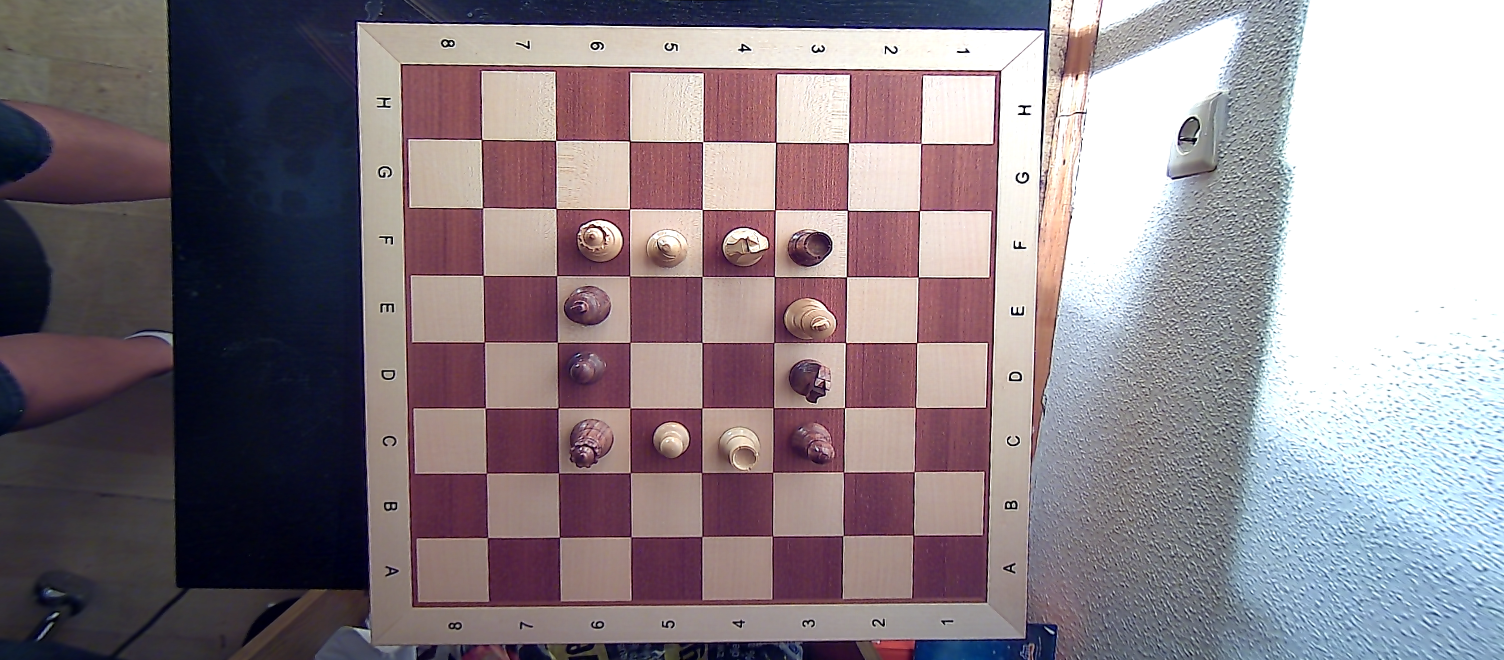black-bishop: (785, 418, 842, 468)
black-king: (562, 281, 616, 330)
black-knight: (785, 354, 839, 403)
black-pawn: (561, 345, 609, 390)
black-queen: (565, 415, 616, 473)
black-rook: (784, 226, 837, 275)
white-bishop: (638, 226, 689, 272)
white-king: (781, 293, 839, 347)
white-knight: (717, 222, 769, 272)
white-pawn: (647, 419, 694, 462)
white-queen: (572, 215, 624, 264)
white-rook: (712, 422, 766, 473)
